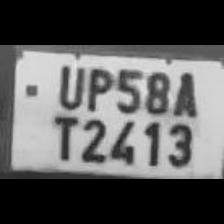1: (136, 117, 163, 167)
2: (77, 115, 107, 163)
3: (163, 116, 195, 168)
4: (106, 115, 138, 163)
5: (109, 65, 143, 113)
8: (141, 66, 170, 114)
A: (169, 68, 201, 116)
P: (82, 63, 112, 113)
T: (45, 110, 79, 162)
U: (52, 61, 84, 108)
